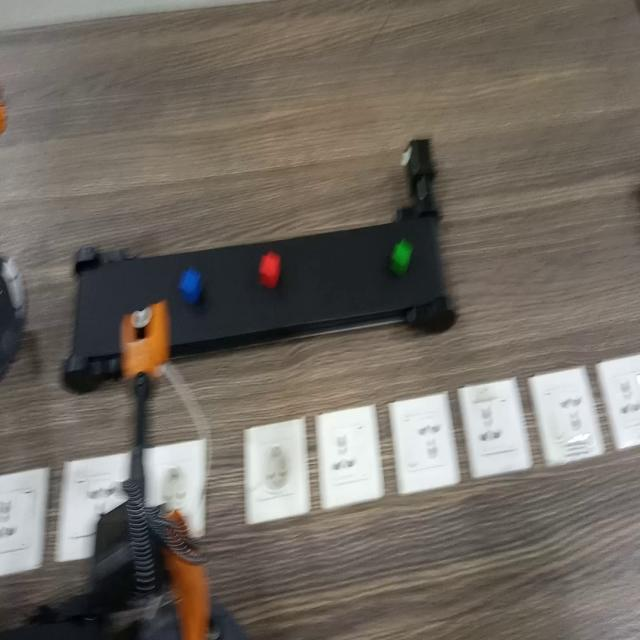cube: (177, 263, 204, 309), (258, 247, 283, 290), (390, 239, 413, 277)
